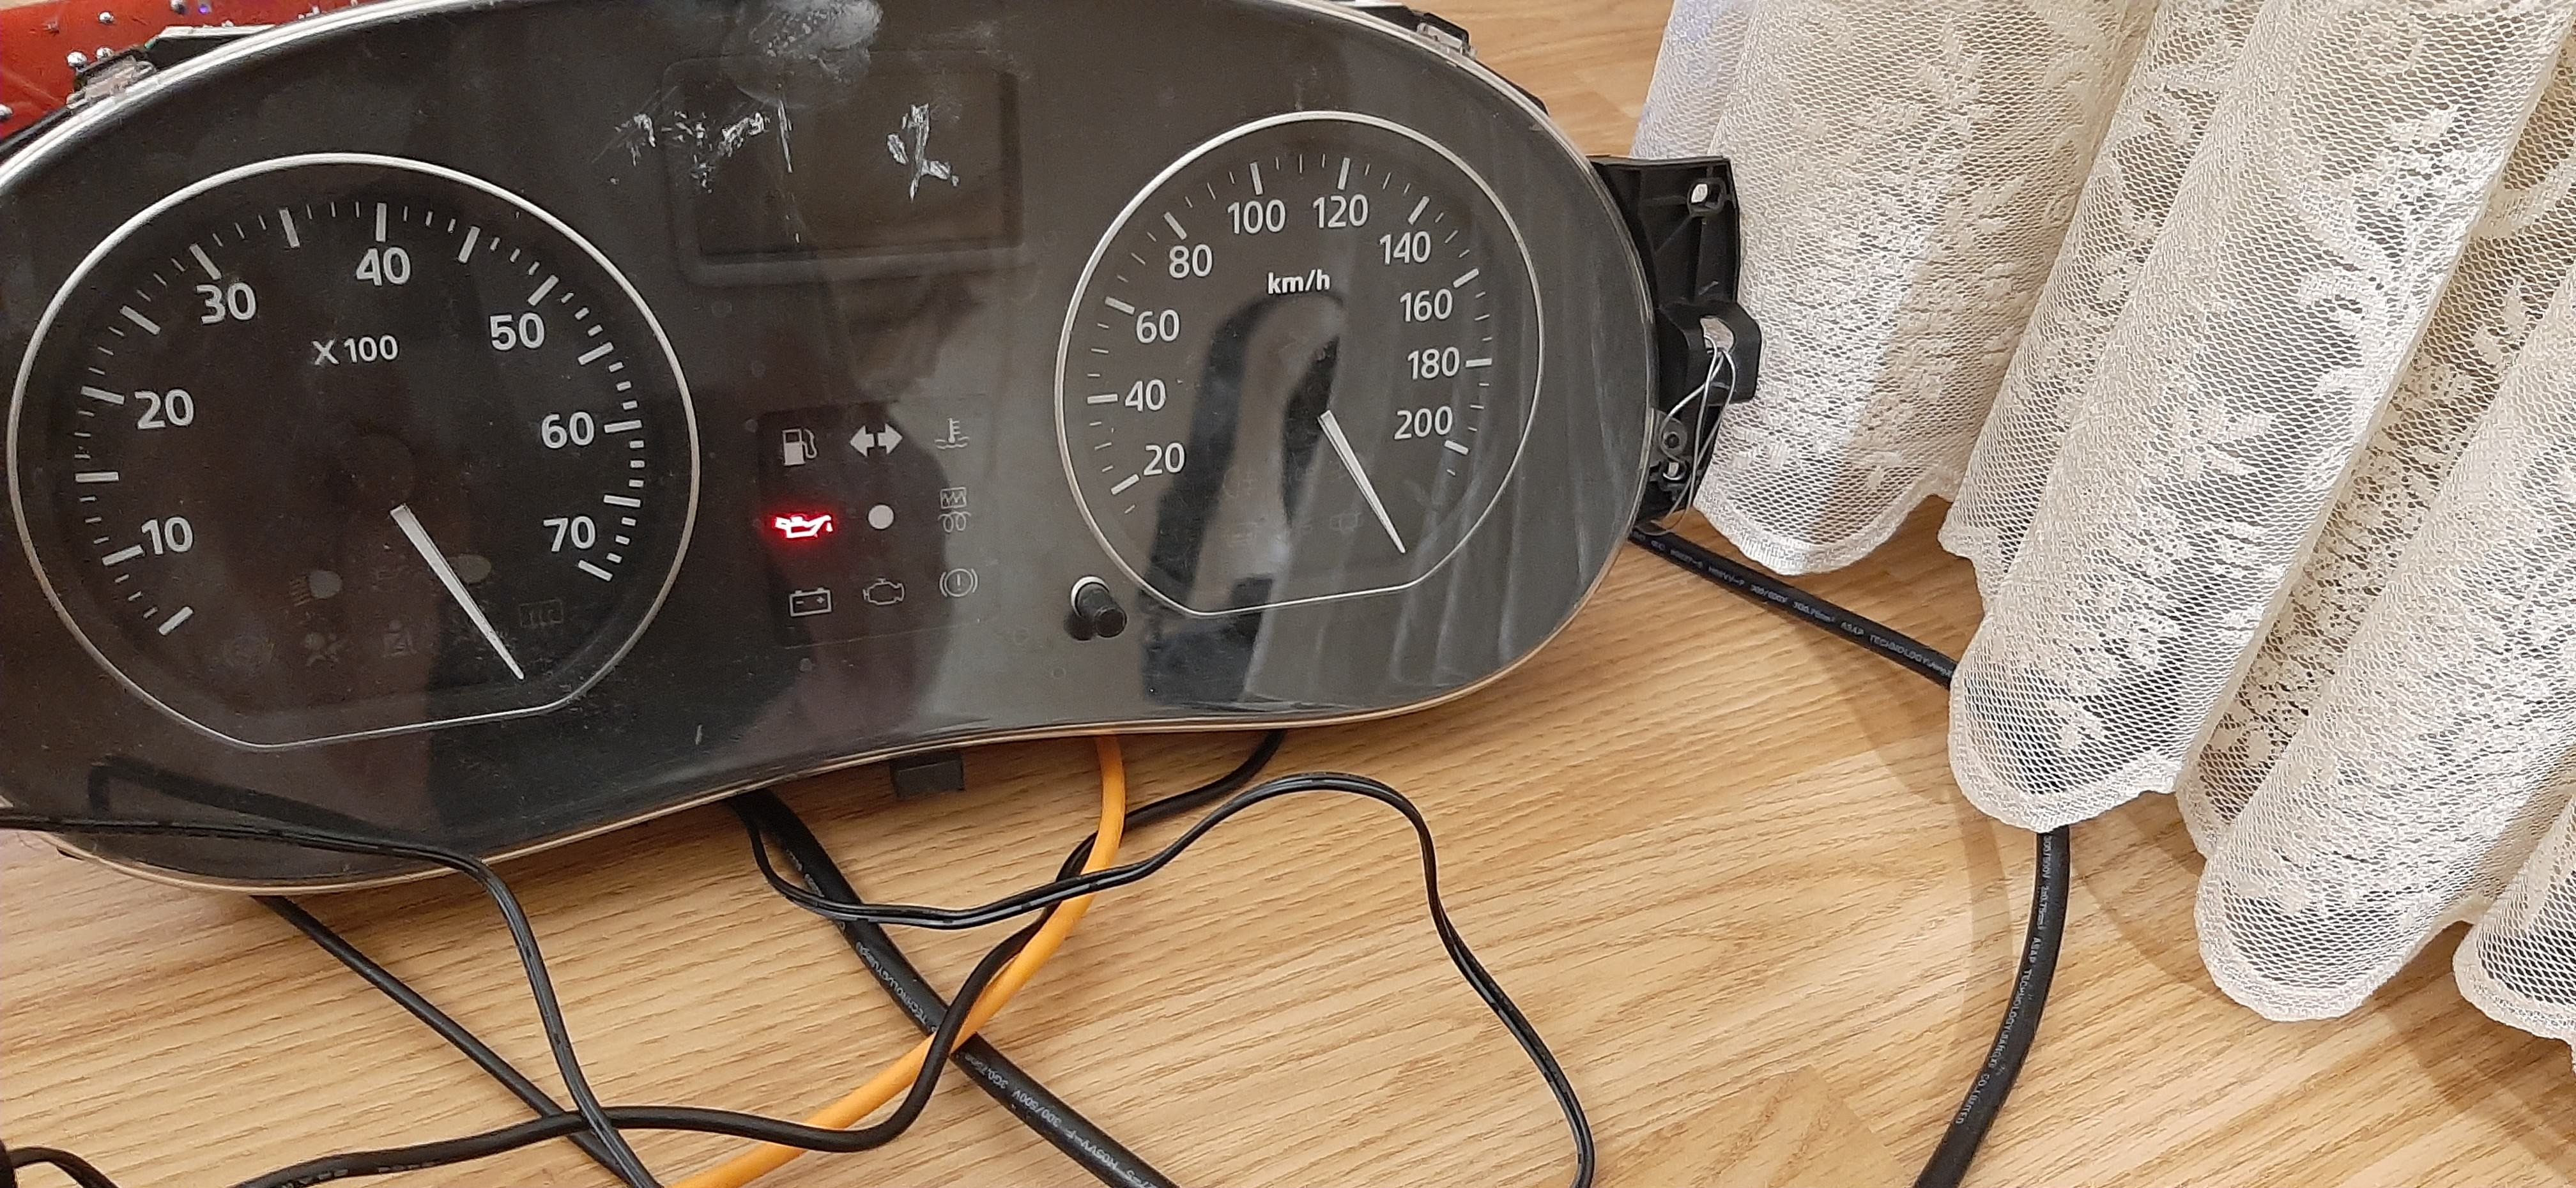oil19: (772, 511, 836, 541)
